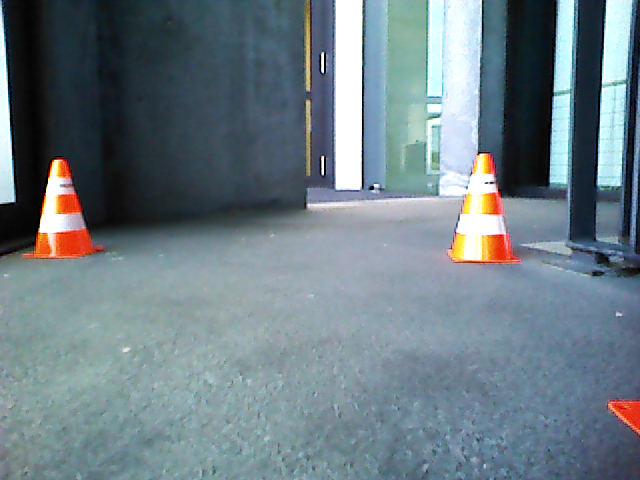orangeconesmall: (452, 152, 517, 262), (27, 157, 94, 259)
